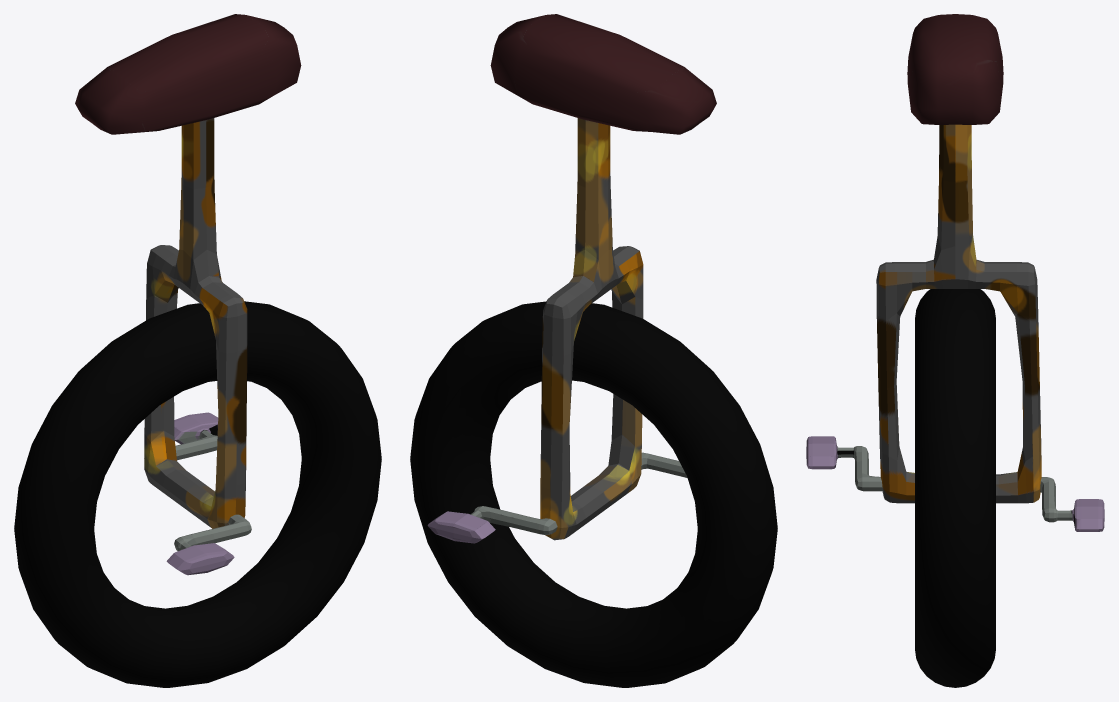
File: Monociclo.fbx
The picture shows the model from 3 angles, left to right: view 1: azimuth 30°, elevation 25°; view 2: azimuth 150°, elevation 25°; view 3: azimuth 270°, elevation 25°; orthographic projection.
Visible parts, largest first — view 1: LLANTA, sOPORTE.001; view 2: LLANTA, sOPORTE.001; view 3: LLANTA, sOPORTE.001.
Part boxes in pixels (<box>): LLANTA: <box>14,301,381,687</box>; sOPORTE.001: <box>75,14,301,528</box>; LLANTA: <box>410,301,777,687</box>; sOPORTE.001: <box>490,14,716,540</box>; LLANTA: <box>806,289,1104,687</box>; sOPORTE.001: <box>876,14,1041,503</box>.
Bounding box in the file's own units: 140 × 243 × 103.
Materials: 2 (2 with a texture image).
